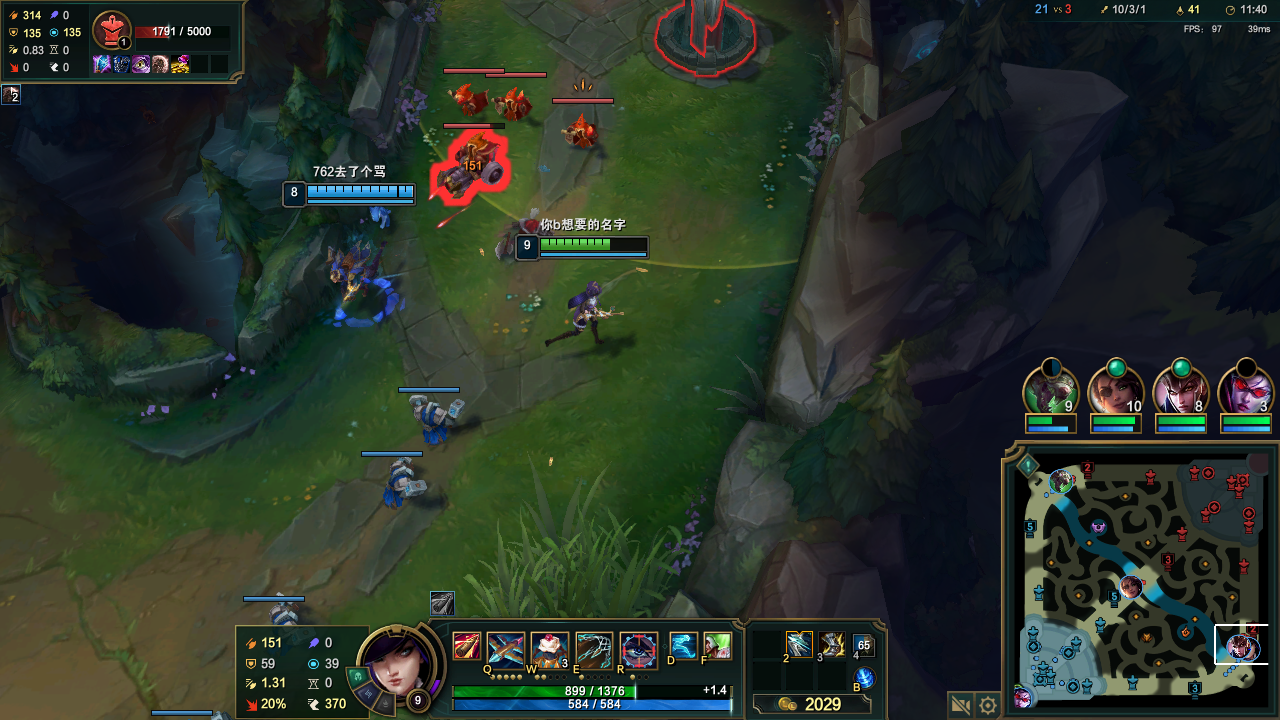DFFYT: (653, 8, 772, 86)
DFXB: (442, 139, 506, 198), (553, 114, 598, 154), (495, 93, 527, 121), (454, 84, 481, 109)
KF: (787, 636, 807, 648)
WFXB: (405, 391, 468, 434), (378, 455, 435, 499), (264, 598, 295, 623)
